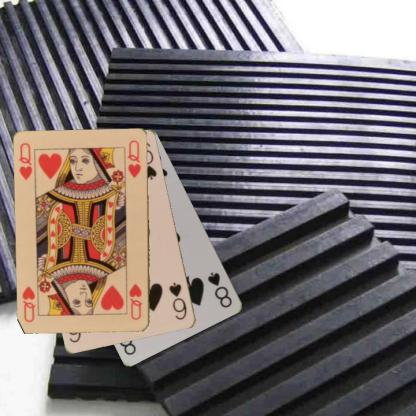6s: (166, 280, 188, 321)
8s: (205, 270, 234, 309)
Qh: (16, 140, 34, 182), (126, 281, 144, 322)
